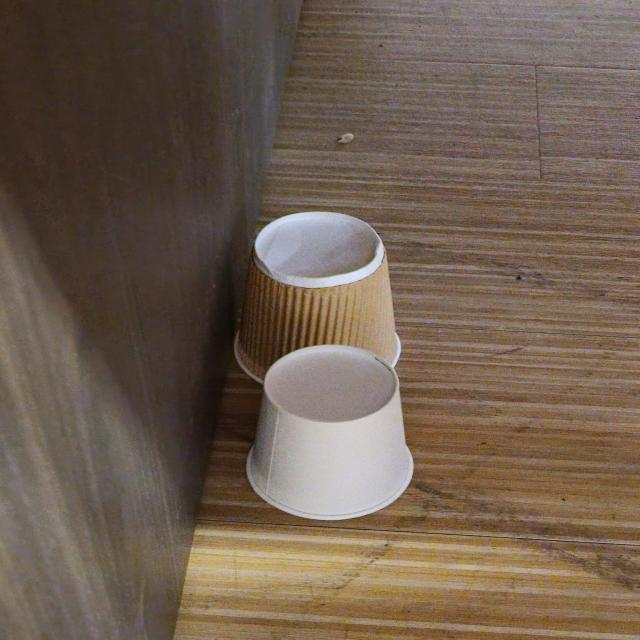Browncup: (235, 212, 401, 382)
Whitecup: (247, 345, 413, 520)
